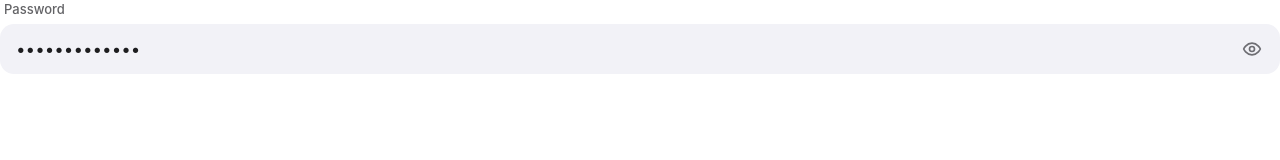
Test case: a password field › hides what is typed until the customer asks to see it
Click the button named "Show password".
click(1252, 49)  # box [1230, 27, 1274, 71]
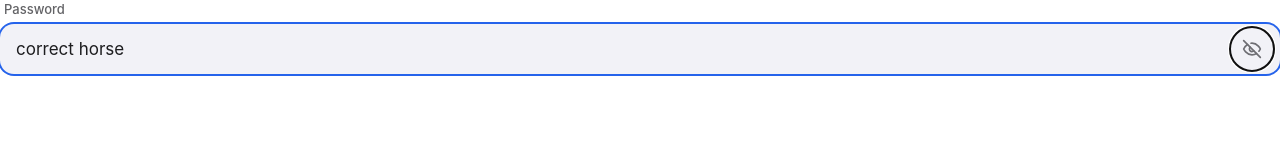
Expected: the field named "Password" holds "correct horse", [16, 24, 1230, 74]
Now the field named "Password" shows its text, box [16, 24, 1230, 74]
Click the button named "Hide password".
click(1252, 49)  # box [1230, 27, 1274, 71]
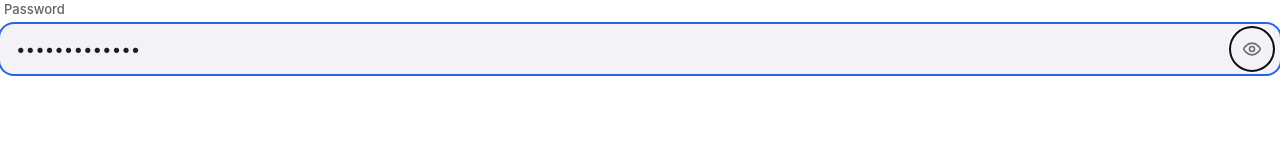
Now the password field named "Password" hides its text, box [16, 24, 1230, 74]
